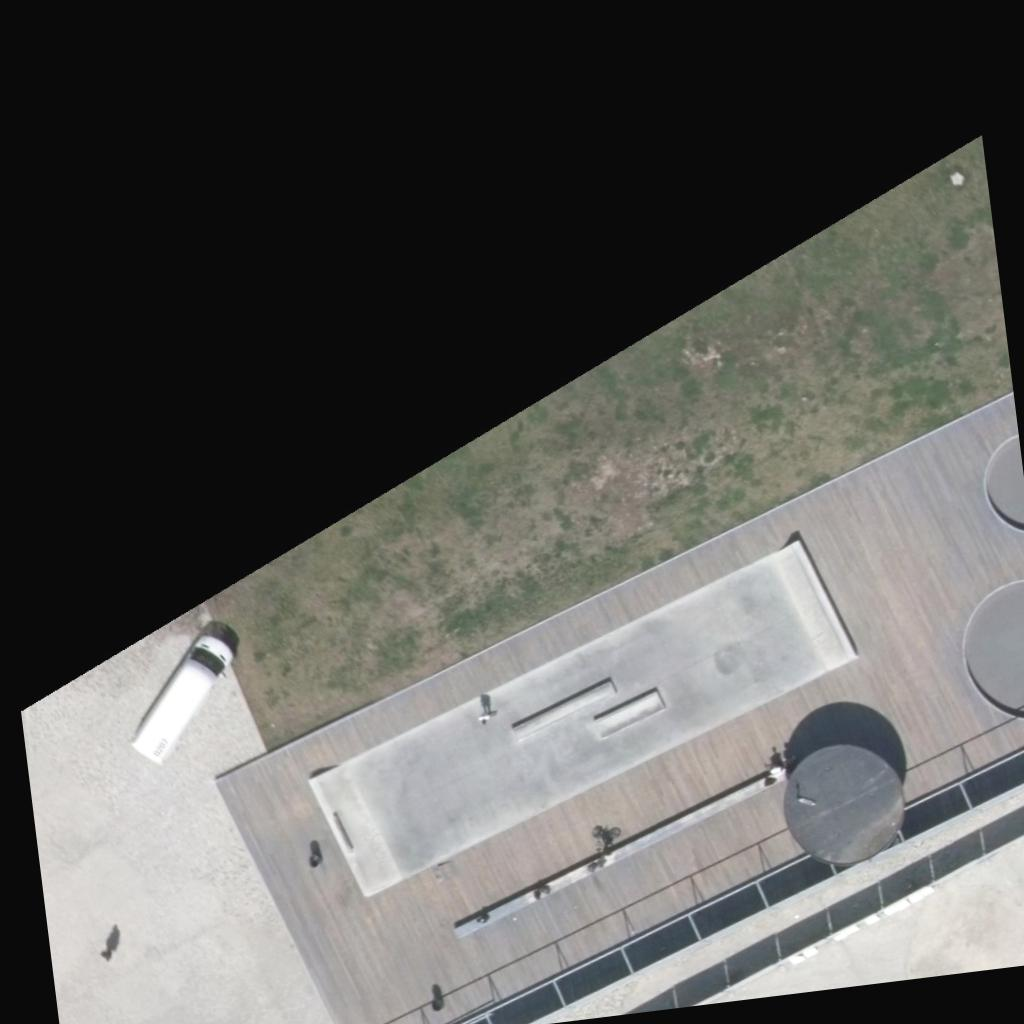pracownik: (98, 924, 120, 960)
samochod_osobowy: (118, 618, 252, 766)
